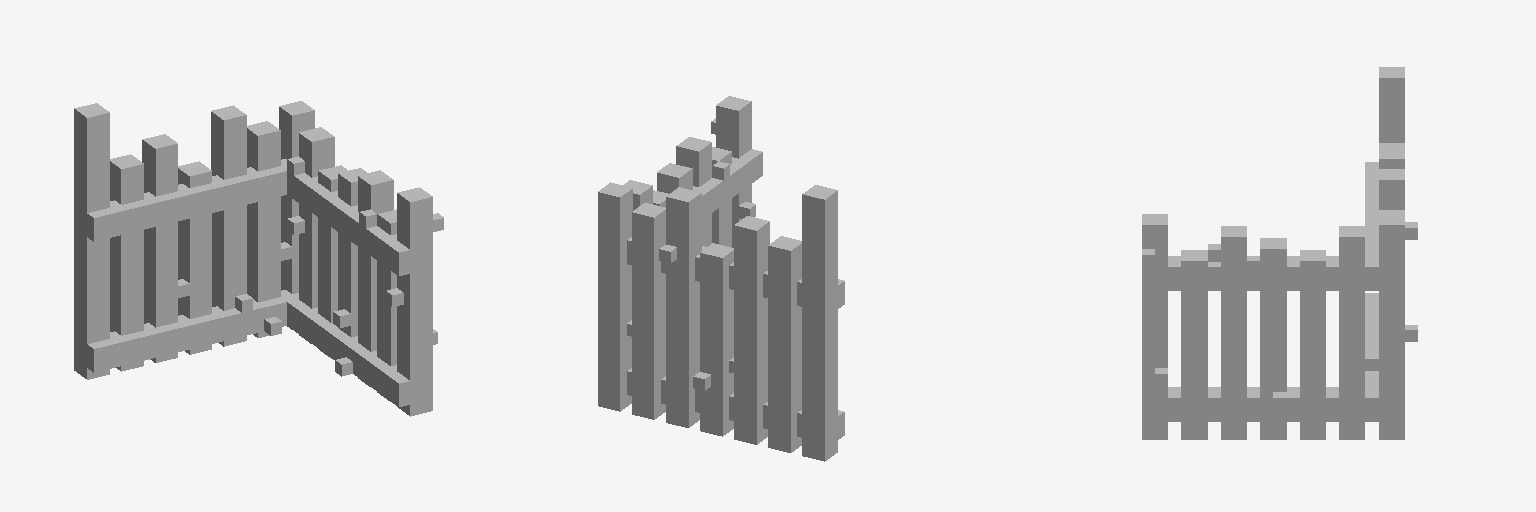
File: bambooWallCornerInner-0.obj
3 renders of one model, left to right at view 1: azimuth 30°, elevation 25°; view 2: azimuth 150°, elevation 25°; view 3: azimuth 270°, elevation 25°, orthographic.
Visible parts, largest first — view 1: object 1; view 2: object 1; view 3: object 1.
Boxes of the visible parts, x1,y1,x2,y2 form: object 1: [74, 101, 443, 416]; object 1: [598, 96, 844, 461]; object 1: [1142, 67, 1417, 439].
Size of the model in its own units: 2.1 by 2.2 by 2.1.